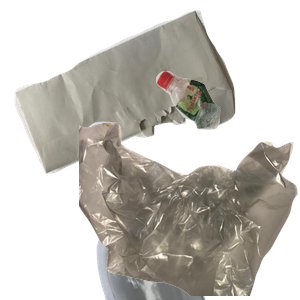glass: (81, 120, 300, 300)
paper: (12, 10, 240, 176)
plastic: (153, 68, 300, 190)
trash: (79, 120, 300, 300)
